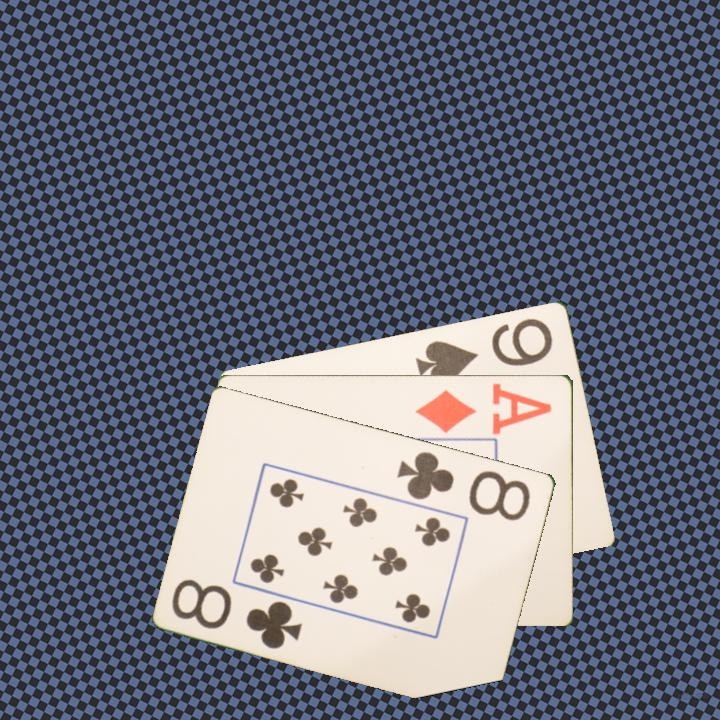8c: (394, 447, 534, 524), (168, 575, 306, 652)
9s: (412, 314, 556, 387)
Ad: (412, 379, 555, 436)
